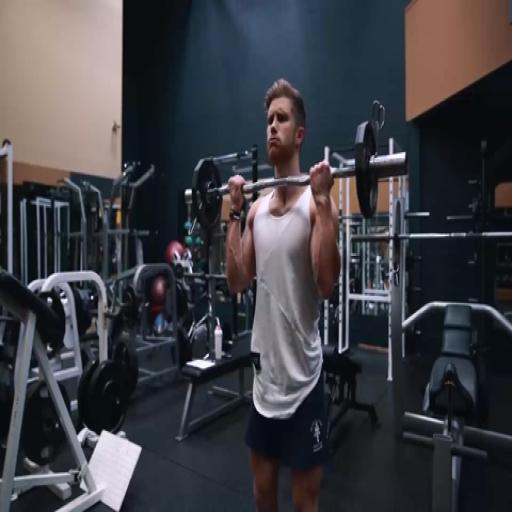exercise: (222, 76, 344, 510)
